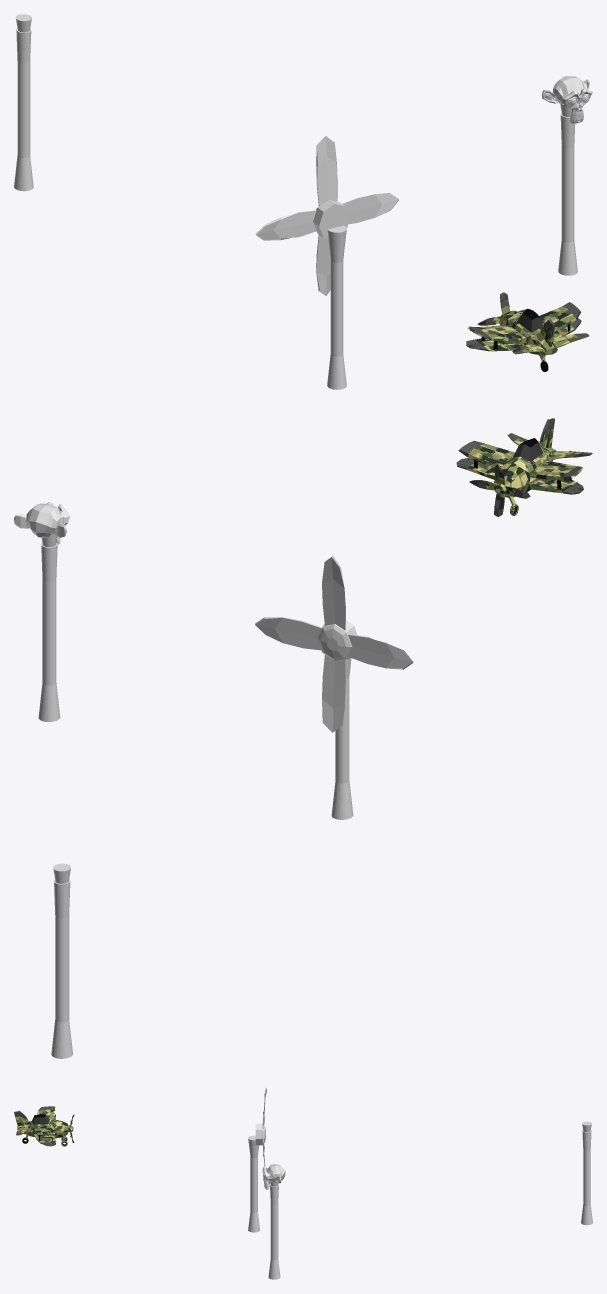
Rendered from toyplane_1.glb.
3 views of the same model, one above another, from view 1: azimuth 30°, elevation 25°; view 2: azimuth 150°, elevation 25°; view 3: azimuth 270°, elevation 25° (orthographic). The views are drawn at different scales.
Visible parts, largest first — view 1: Cylinder.003, Cylinder, Cylinder.005, Cylinder.002, Cylinder.004, Suzanne; view 2: Cylinder.003, Cylinder, Cylinder.005, Cylinder.004, Cylinder.002, Suzanne, Cylinder.001; view 3: Cylinder, Cylinder.005, Cylinder.004, Cylinder.002, Suzanne, Cylinder.003.
Part boxes in pixels (bbox=[...]): Cylinder.003: bbox=[255, 136, 398, 295]; Cylinder: bbox=[466, 302, 589, 371]; Cylinder.005: bbox=[14, 14, 33, 191]; Cylinder.002: bbox=[327, 225, 346, 389]; Cylinder.004: bbox=[558, 104, 577, 275]; Suzanne: bbox=[541, 76, 592, 123]; Cylinder.003: bbox=[255, 556, 413, 732]; Cylinder: bbox=[456, 418, 592, 515]; Cylinder.005: bbox=[51, 863, 72, 1058]; Cylinder.004: bbox=[38, 534, 60, 721]; Cylinder.002: bbox=[331, 658, 353, 819]; Suzanne: bbox=[14, 501, 70, 544]; Cylinder.001: bbox=[469, 463, 530, 516]; Cylinder: bbox=[14, 1106, 67, 1146]; Cylinder.005: bbox=[581, 1121, 592, 1225]; Cylinder.004: bbox=[268, 1182, 280, 1279]; Cylinder.002: bbox=[248, 1135, 259, 1232]; Suzanne: bbox=[262, 1164, 285, 1189]; Cylinder.003: bbox=[255, 1087, 266, 1166].
Size of the model in its own units: 20.41 by 13.72 by 50.14.
Materials: 6 (3 with a texture image).
